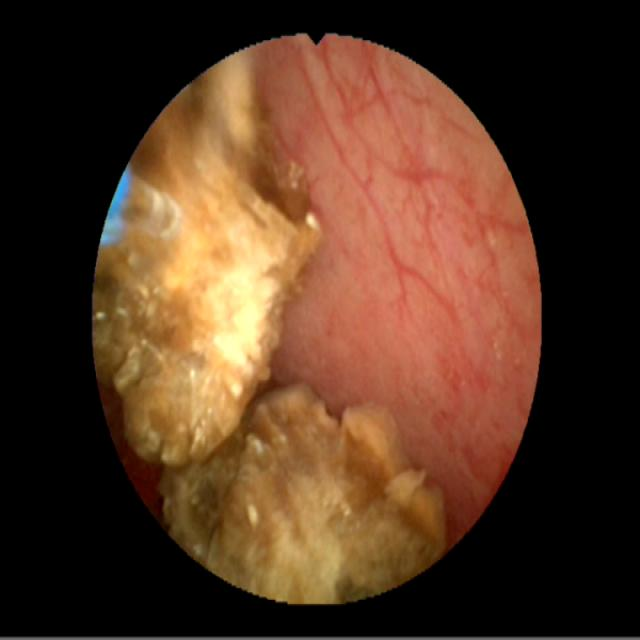stone: (99, 59, 318, 462), (159, 382, 445, 594)
tissue: (266, 41, 535, 522)
